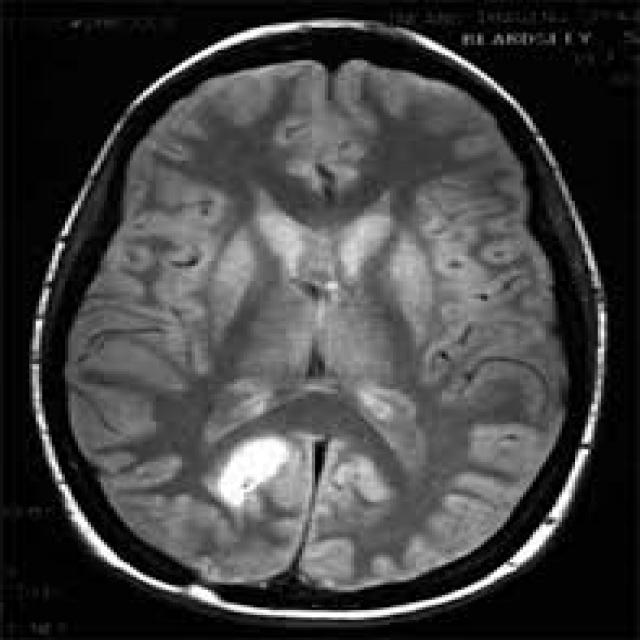Tumor: (216, 434, 302, 516)
